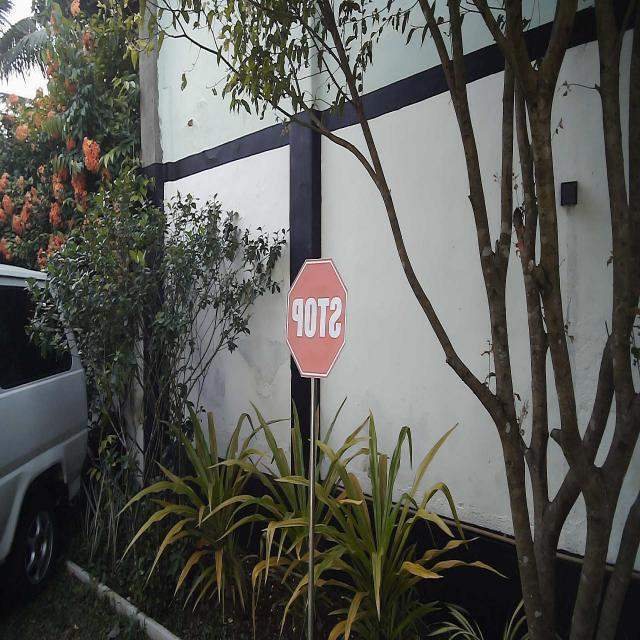stop: (283, 255, 349, 382)
